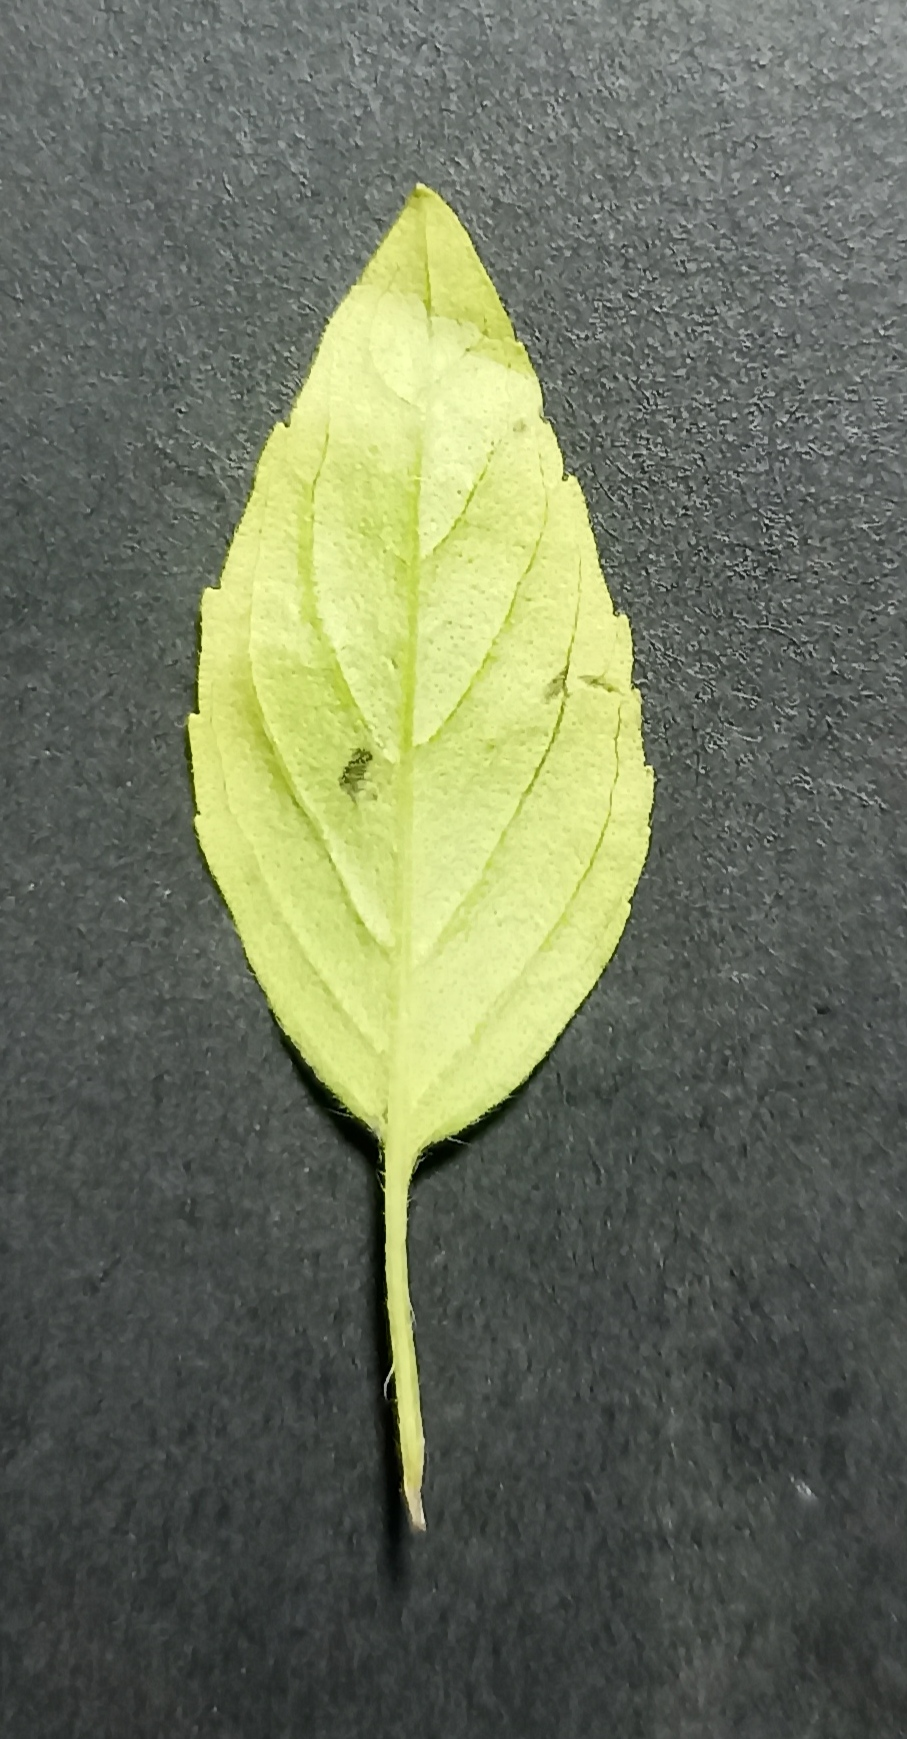Unhealthy: (172, 151, 674, 1234)
